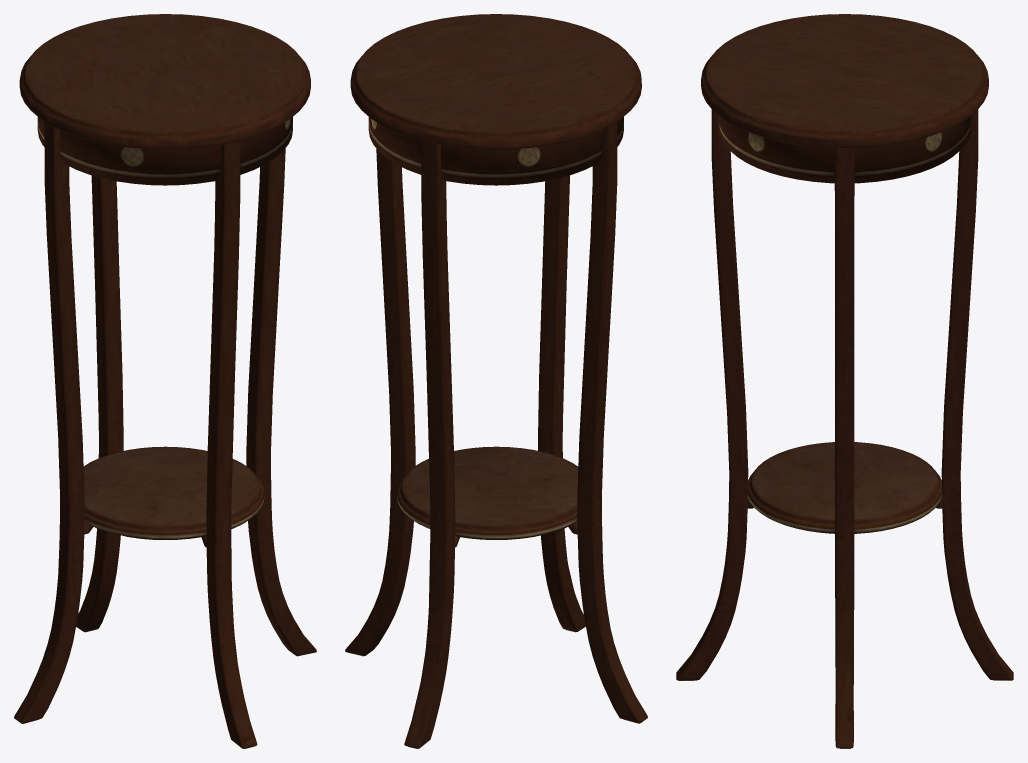
The model's file is side_table_tall_01.glb.
3 views of the same model, side by side, from view 1: azimuth 30°, elevation 25°; view 2: azimuth 150°, elevation 25°; view 3: azimuth 270°, elevation 25° (orthographic).
Parts seen in each view (by area): view 1: side_table_tall_01; view 2: side_table_tall_01; view 3: side_table_tall_01.
Part boxes in pixels (bbox=[...]): side_table_tall_01: bbox=[14, 14, 316, 748]; side_table_tall_01: bbox=[345, 14, 647, 748]; side_table_tall_01: bbox=[676, 14, 1013, 748].
Bounding box in the file's own units: 0.384 × 0.7612 × 0.384.
1 material, 1 textured.
